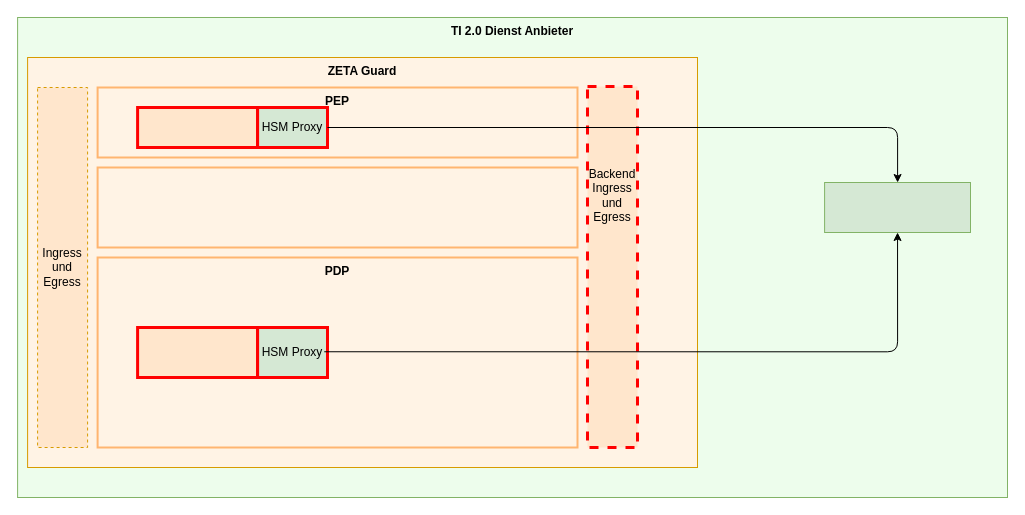
The diagram is 1025 pixels wide and 515 high, and some of its shapes have lost their labels. Here are the shapes that lost their labels. From the top down, the centre of each, then its label:
At point 197,127: "HTTP Proxy".
At point 337,207: "PEP/PDP Shared".
At point 897,207: "HSM".
At point 197,352: "Authorization Server".
